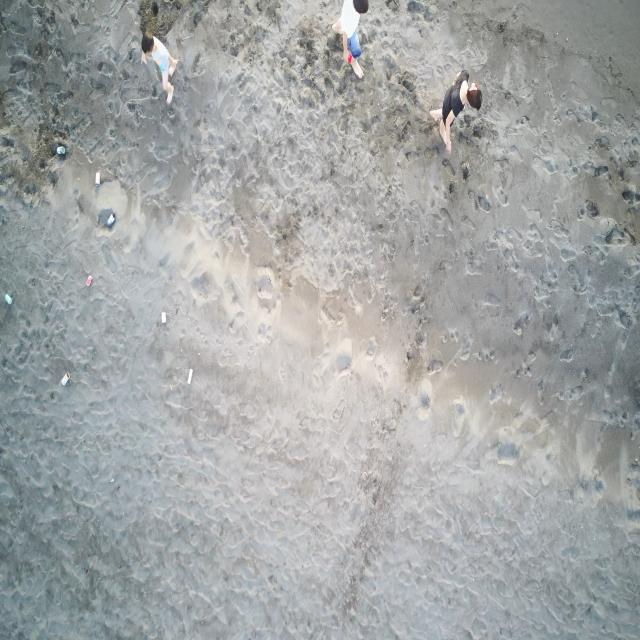Garbage: (99, 207, 115, 227), (51, 141, 65, 158), (60, 372, 68, 384), (4, 292, 12, 303), (56, 144, 63, 156), (187, 368, 192, 384), (84, 275, 91, 286), (160, 311, 166, 323), (95, 172, 100, 184)
